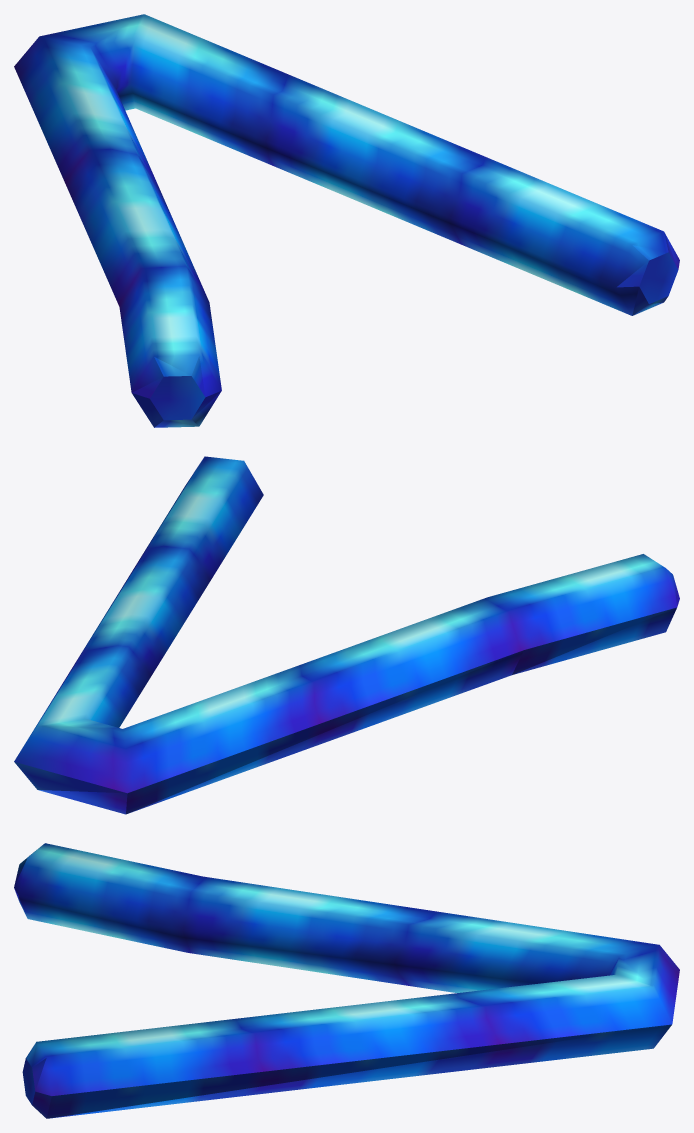
File: furni_0200469.FBX
3 views of the same model, one above another, from view 1: azimuth 30°, elevation 25°; view 2: azimuth 150°, elevation 25°; view 3: azimuth 270°, elevation 25° (orthographic). The views are drawn at different scales.
Parts seen in each view (by area): view 1: furni_0200469; view 2: furni_0200469; view 3: furni_0200469.
Part boxes in pixels (left/top/right/bottom): furni_0200469: left=14, top=14, right=679, bottom=427; furni_0200469: left=14, top=456, right=679, bottom=814; furni_0200469: left=14, top=843, right=679, bottom=1118.
Size of the model in its own units: 41.18 by 5.11 by 50.42.
Materials: 1 (1 with a texture image).
